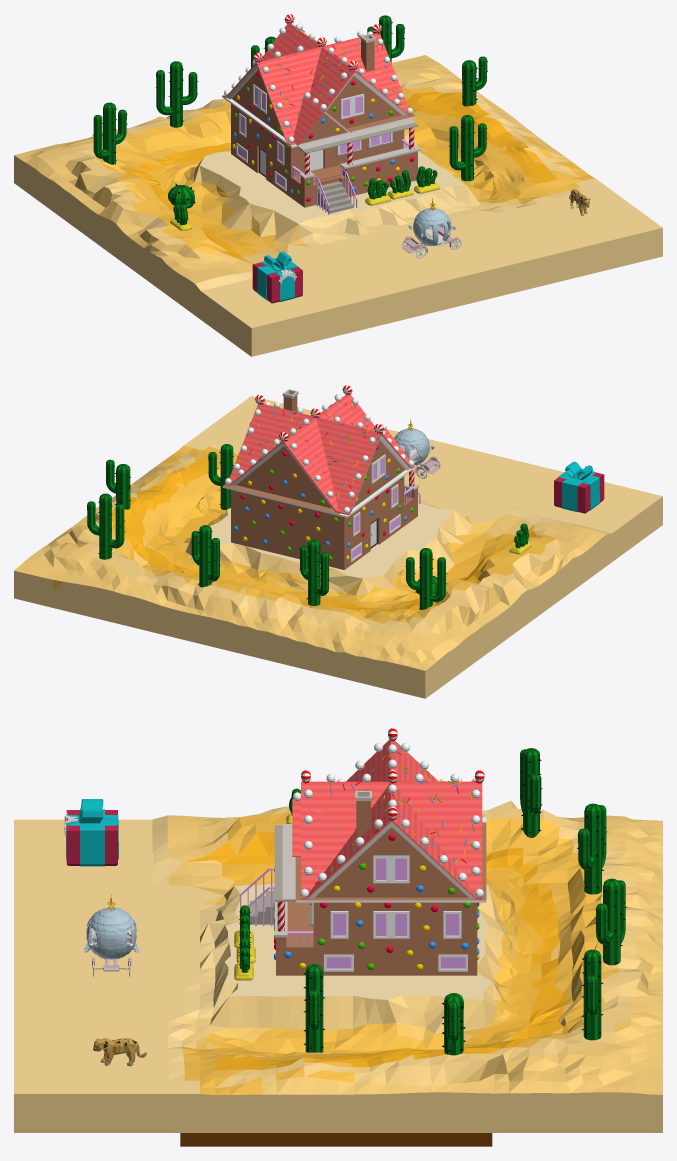
3 views of the same model, one above another, from view 1: azimuth 30°, elevation 25°; view 2: azimuth 150°, elevation 25°; view 3: azimuth 270°, elevation 25° (orthographic). The views are drawn at different scales.
Visible parts, largest first — view 1: Cube.001, Cube.1203, OBJRANDOM_GIANT_PRESENT, VEHICLES_FANTASY_CARRIAGE, Cylinder.044, Cylinder.037, Cylinder.045, Cylinder.038, Cylinder.042, Cylinder.039, Cylinder.041; view 2: Cube.001, Cube.1203, OBJRANDOM_GIANT_PRESENT, Cylinder.042, Cylinder.045, Cylinder.044, Cylinder.043, VEHICLES_FANTASY_CARRIAGE, Cylinder.037, Cylinder.038; view 3: Cube.001, Cube.1203, UNDERGROUND_ART_PIECE_VAN_GOGH, OBJRANDOM_GIANT_PRESENT, VEHICLES_FANTASY_CARRIAGE, Cylinder.044, Cylinder.043, Cylinder.045, Cylinder.042, Cylinder.037, Cylinder.038, ANIMAL_JAGUAR.
Part boxes in pixels (x1=…): Cube.001: x1=14, y1=55, x2=662, y2=356; Cube.1203: x1=222, y1=14, x2=420, y2=214; OBJRANDOM_GIANT_PRESENT: x1=252, y1=251, x2=302, y2=303; VEHICLES_FANTASY_CARRIAGE: x1=401, y1=198, x2=461, y2=258; Cylinder.044: x1=156, y1=61, x2=197, y2=127; Cylinder.037: x1=449, y1=115, x2=487, y2=181; Cylinder.045: x1=93, y1=102, x2=127, y2=164; Cylinder.038: x1=462, y1=56, x2=487, y2=106; Cylinder.042: x1=367, y1=15, x2=404, y2=62; Cylinder.039: x1=365, y1=178, x2=391, y2=205; Cylinder.041: x1=413, y1=166, x2=440, y2=193; Cube.001: x1=14, y1=396, x2=662, y2=698; Cube.1203: x1=222, y1=385, x2=420, y2=569; OBJRANDOM_GIANT_PRESENT: x1=554, y1=461, x2=604, y2=513; Cylinder.042: x1=87, y1=493, x2=125, y2=559; Cylinder.045: x1=405, y1=548, x2=446, y2=609; Cylinder.044: x1=299, y1=539, x2=329, y2=605; Cylinder.043: x1=191, y1=525, x2=220, y2=587; VEHICLES_FANTASY_CARRIAGE: x1=394, y1=418, x2=440, y2=478; Cylinder.037: x1=208, y1=444, x2=237, y2=510; Cylinder.038: x1=106, y1=459, x2=130, y2=509; Cube.001: x1=14, y1=801, x2=662, y2=1132; Cube.1203: x1=239, y1=727, x2=486, y2=975; UNDERGROUND_ART_PIECE_VAN_GOGH: x1=180, y1=1133, x2=492, y2=1146; OBJRANDOM_GIANT_PRESENT: x1=64, y1=799, x2=118, y2=866; VEHICLES_FANTASY_CARRIAGE: x1=84, y1=894, x2=139, y2=976; Cylinder.044: x1=577, y1=803, x2=607, y2=894; Cylinder.043: x1=595, y1=878, x2=626, y2=965; Cylinder.045: x1=520, y1=748, x2=542, y2=837; Cylinder.042: x1=581, y1=949, x2=603, y2=1040; Cylinder.037: x1=303, y1=964, x2=325, y2=1052; Cylinder.038: x1=441, y1=993, x2=465, y2=1055; ANIMAL_JAGUAR: x1=93, y1=1038, x2=146, y2=1066.
Size of the model in its own units: 4002 by 1754 by 4001.
37 materials, 4 textured.
